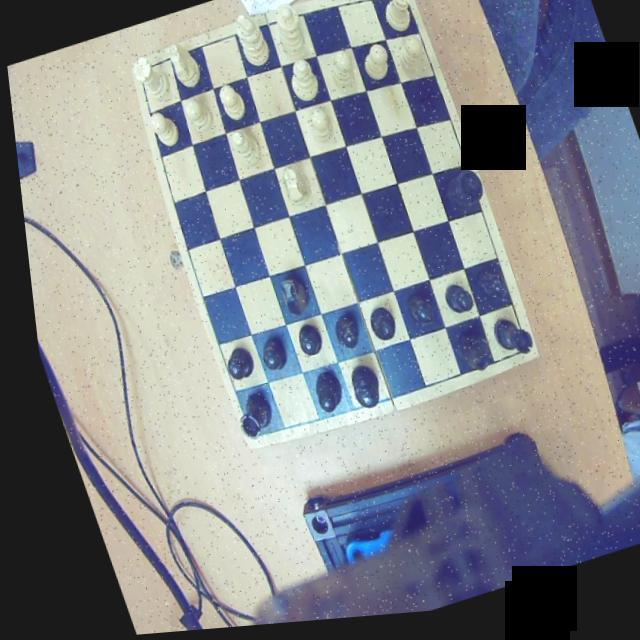chess-table-corners: (229, 420, 259, 451), (501, 344, 528, 372), (130, 59, 154, 85), (392, 0, 416, 18)
